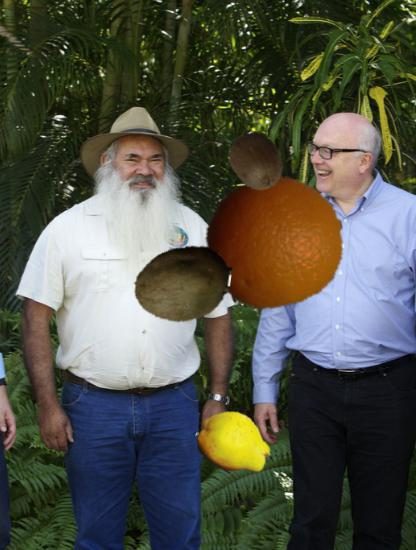Kiwi: (226, 131, 287, 192)
Orange: (205, 172, 345, 312)
Papaya: (134, 235, 231, 332)
Quince: (195, 404, 273, 482)
